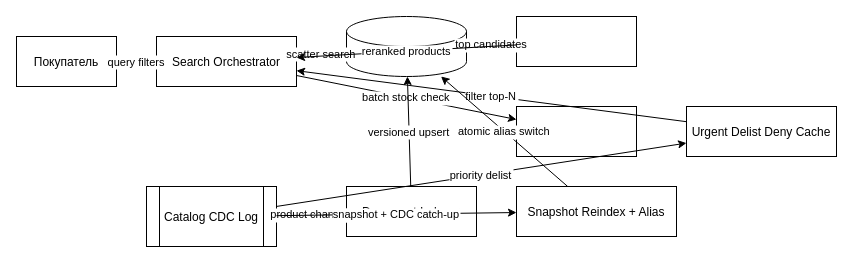
The diagram is 853 pixels wide and 263 high, and some of its shapes have lost their labels. The shapes that lost their labels are listed below. From the top down, each one's box as (x1, y1, x2, y2) in pixels, then its label:
(346, 16, 466, 76): Search Shards
(516, 16, 636, 66): Ranking Service
(516, 106, 636, 156): Inventory Service
